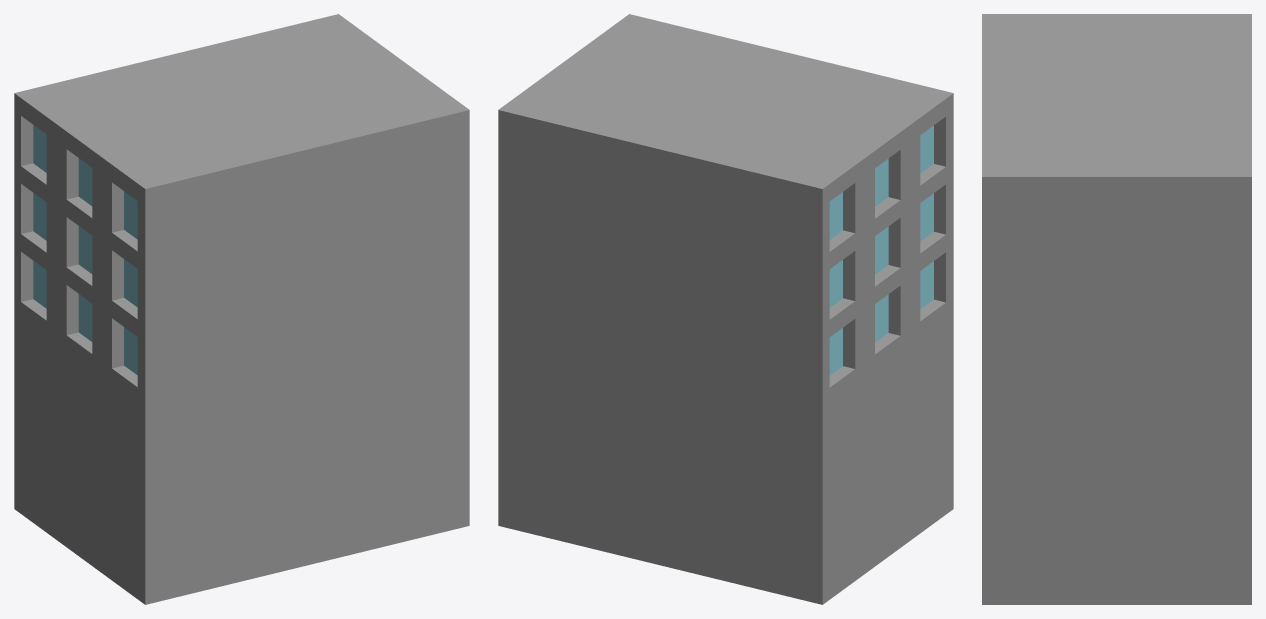
File: TallBuilding.fbx
3 renders of one model, left to right at view 1: azimuth 30°, elevation 25°; view 2: azimuth 150°, elevation 25°; view 3: azimuth 270°, elevation 25°, orthographic. The views are drawn at different scales.
Parts seen in each view (by area): view 1: TallBuilding; view 2: TallBuilding; view 3: TallBuilding.
Part boxes in pixels (x1,y1,x2,y2): TallBuilding: (14,14,469,604); TallBuilding: (498,14,953,604); TallBuilding: (982,14,1251,604).
Size of the model in its own units: 1400 by 1715 by 980.
